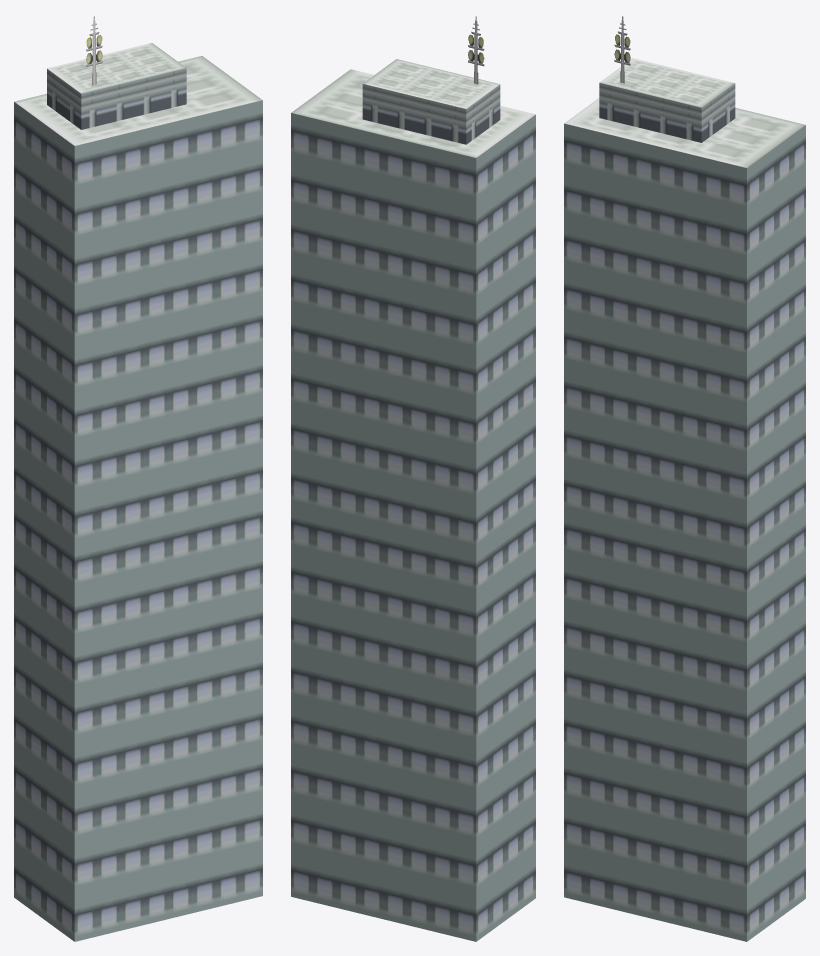
File: saffron2.glb
The picture shows the model from 3 angles, left to right: view 1: azimuth 30°, elevation 25°; view 2: azimuth 150°, elevation 25°; view 3: azimuth 330°, elevation 25°; orthographic projection. The views are drawn at different scales.
Parts seen in each view (by area): view 1: city.001; view 2: city.001; view 3: city.001.
Boxes of the visible parts, x1,y1,x2,y2 form: city.001: (14,16,262,941); city.001: (291,16,535,941); city.001: (564,16,805,941).
Bounding box in the file's own units: 2.16 × 9.86 × 1.2.
1 material, 1 textured.
